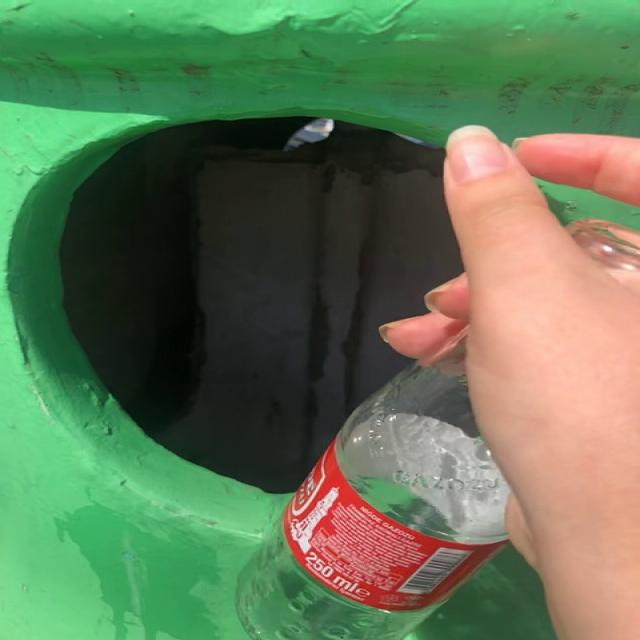glass: (239, 352, 508, 640), (575, 221, 640, 278)
